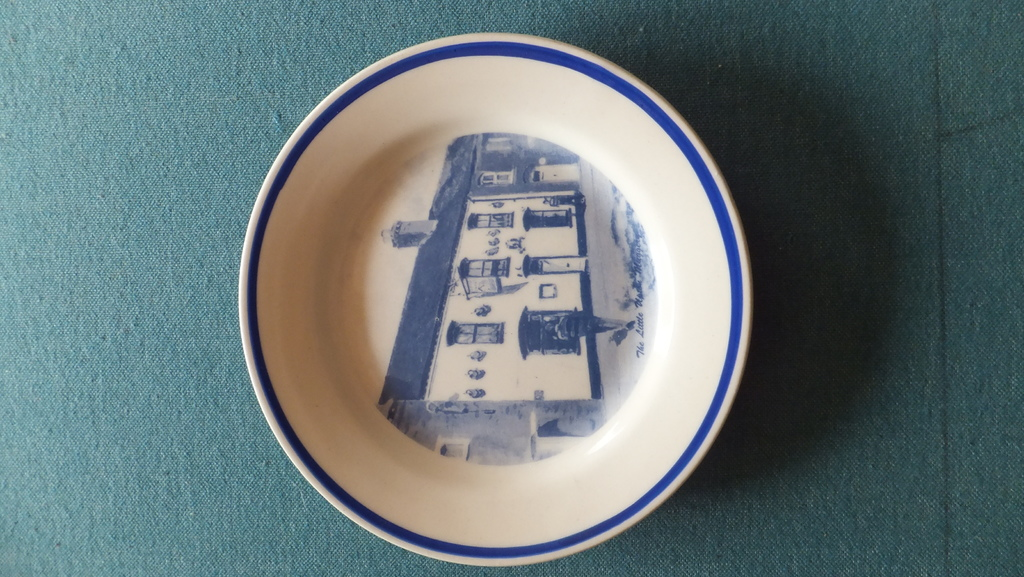plate: (232, 33, 748, 563)
